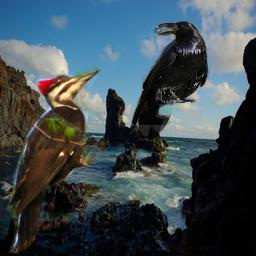Crow: (131, 21, 209, 142)
Woodpecker: (6, 66, 106, 255)
